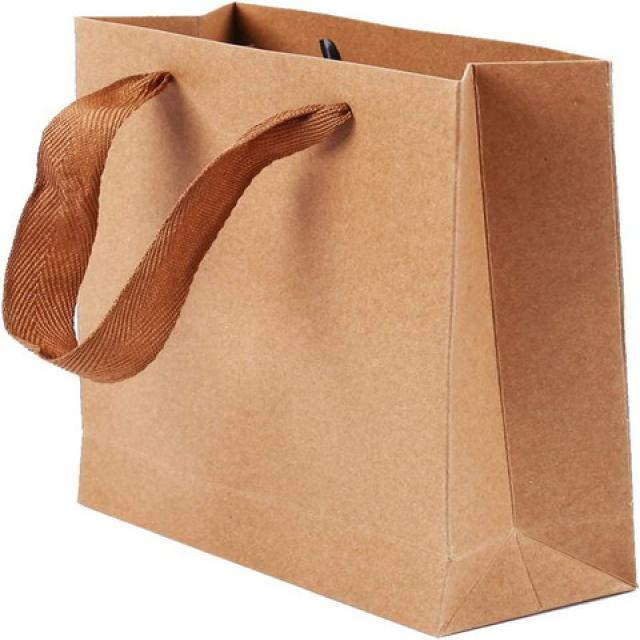paper bag: (10, 1, 640, 638)
